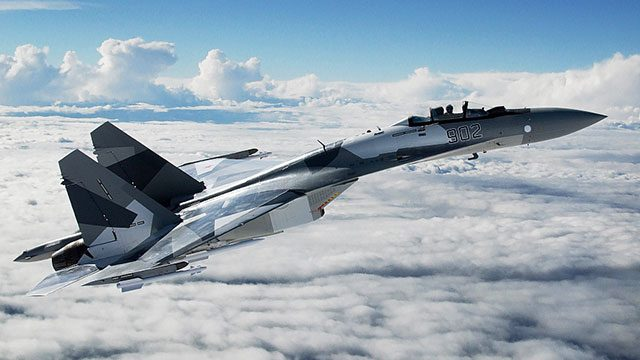Su35: (11, 96, 610, 301)
